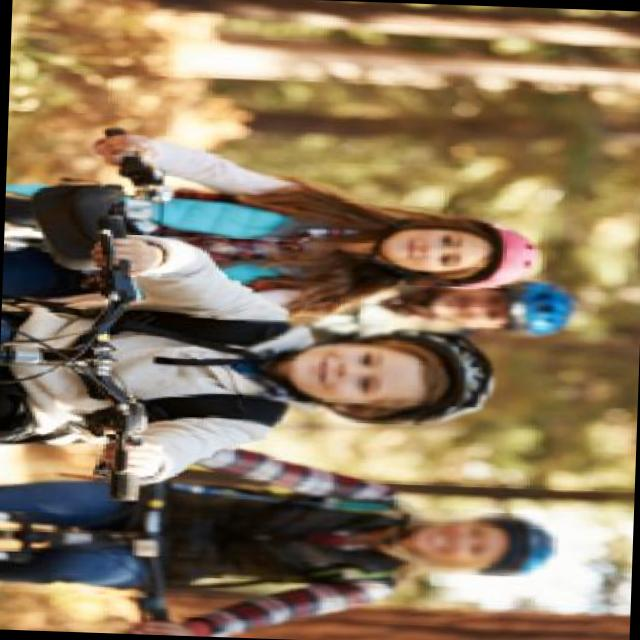With Helmet: (240, 314, 510, 434), (364, 209, 550, 292), (412, 275, 584, 340), (406, 510, 558, 580)
